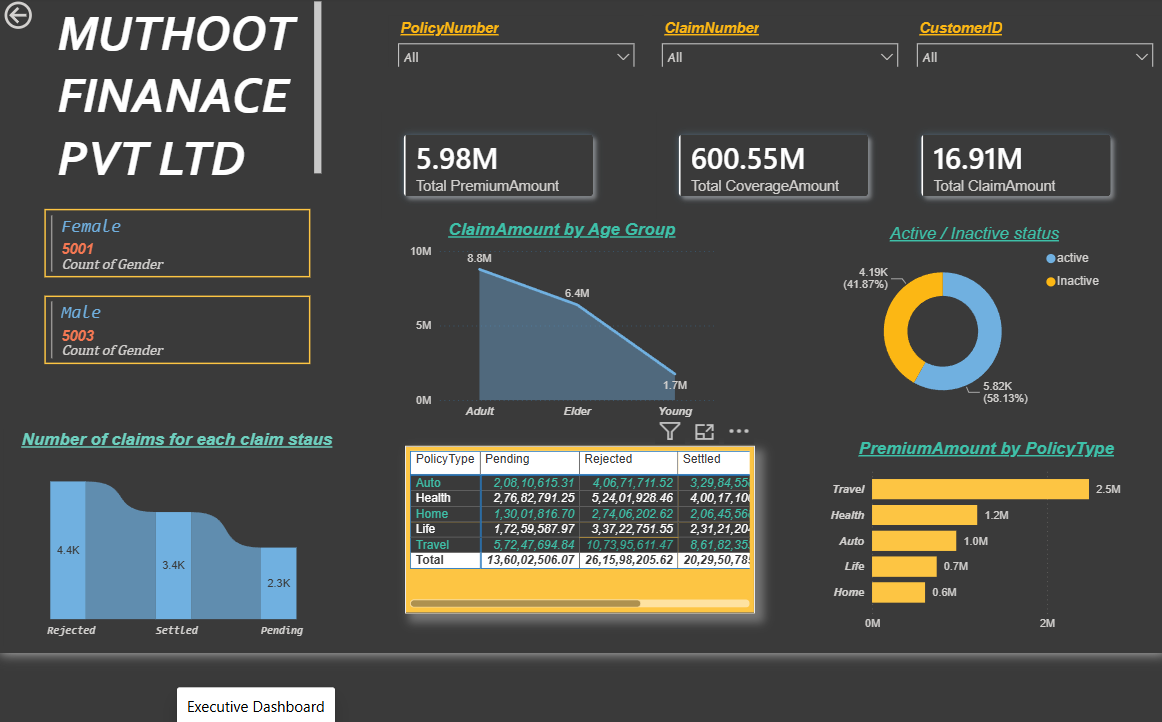

The dashboard page shown, as its layout file describes it:
{"tool":"powerbi","page":{"name":"Executive Dashboard","canvas":[1280,720],"ordinal":0},"visuals":[{"type":"slicer","fields":{"Values":["InsuranceData (1).PolicyNumber"]},"box":[426.8,20.6,279.9,56.3],"z":0},{"type":"slicer","fields":{"Values":["InsuranceData (1).ClaimNumber"]},"box":[716.3,20.6,279.9,56.3],"z":1000},{"type":"slicer","fields":{"Values":["InsuranceData (1).CustomerID"]},"box":[996.2,20.6,279.9,56.3],"z":2000},{"type":"textbox","box":[57.6,0,300.5,207.2],"z":3000},{"type":"cardVisual","fields":{"Data":["Sum(InsuranceData (1).PremiumAmount)"]},"box":[414.4,122.1,266.2,126.2],"z":4000},{"type":"cardVisual","fields":{"Data":["Sum(InsuranceData (1).CoverageAmount)"]},"box":[716.3,122.1,266.2,126.2],"z":5000},{"type":"cardVisual","fields":{"Data":["Sum(InsuranceData (1).ClaimAmount)"]},"box":[982.5,122.1,266.2,126.2],"z":6000},{"type":"multiRowCard","fields":{"Values":["InsuranceData (1).Gender","CountNonNull(InsuranceData (1).Gender)"]},"box":[43.9,227.8,301.9,207.2],"z":7000},{"type":"ribbonChart","title":"Number of claims for each claim staus","fields":{"Category":["InsuranceData (1).ClaimStatus"],"Y":["CountNonNull(InsuranceData (1).ClaimStatus)"]},"box":[4.1,474.8,380.1,237.4],"z":8000},{"type":"barChart","fields":{"Category":["InsuranceData (1).PolicyType"],"Y":["Sum(InsuranceData (1).PremiumAmount)"]},"box":[905.7,484.4,354,219.6],"z":9000},{"type":"lineChart","fields":{"Category":["InsuranceData (1).Age Group"],"Y":["Sum(InsuranceData (1).ClaimAmount)"]},"box":[444.6,244.3,344.4,226.4],"z":10000},{"type":"donutChart","title":"Active /  Inactive status","fields":{"Y":["CountNonNull(InsuranceData (1).Active /  Inactive)"],"Category":["InsuranceData (1).Active /  Inactive"]},"box":[918,248.4,303.3,216.8],"z":11000},{"type":"pivotTable","fields":{"Rows":["InsuranceData (1).PolicyType"],"Columns":["InsuranceData (1).ClaimStatus"],"Values":["Sum(InsuranceData (1).CoverageAmount)"]},"box":[444.6,492.6,384.2,183.9],"z":12000},{"type":"actionButton","box":[0,0,100,40],"z":13000}]}

Visuals, with their boxes on the page's 1280x720 design canvas (x1, y1, x2, y2). These are canvas units, not pixel positions in the 1162x722 screenshot, which may show the page scaled, cropped or inside an application window:
slicer - InsuranceData (1).PolicyNumber: bbox(427, 21, 707, 77)
slicer - InsuranceData (1).ClaimNumber: bbox(716, 21, 996, 77)
slicer - InsuranceData (1).CustomerID: bbox(996, 21, 1276, 77)
textbox: bbox(58, 0, 358, 207)
cardVisual - Sum(InsuranceData (1).PremiumAmount): bbox(414, 122, 681, 248)
cardVisual - Sum(InsuranceData (1).CoverageAmount): bbox(716, 122, 982, 248)
cardVisual - Sum(InsuranceData (1).ClaimAmount): bbox(982, 122, 1249, 248)
multiRowCard - InsuranceData (1).Gender x CountNonNull(InsuranceData (1).Gender): bbox(44, 228, 346, 435)
"Number of claims for each claim staus" ribbonChart: bbox(4, 475, 384, 712)
barChart - InsuranceData (1).PolicyType x Sum(InsuranceData (1).PremiumAmount): bbox(906, 484, 1260, 704)
lineChart - InsuranceData (1).Age Group x Sum(InsuranceData (1).ClaimAmount): bbox(445, 244, 789, 471)
"Active /  Inactive status" donutChart: bbox(918, 248, 1221, 465)
pivotTable - InsuranceData (1).PolicyType x InsuranceData (1).ClaimStatus: bbox(445, 493, 829, 676)
actionButton: bbox(0, 0, 100, 40)
